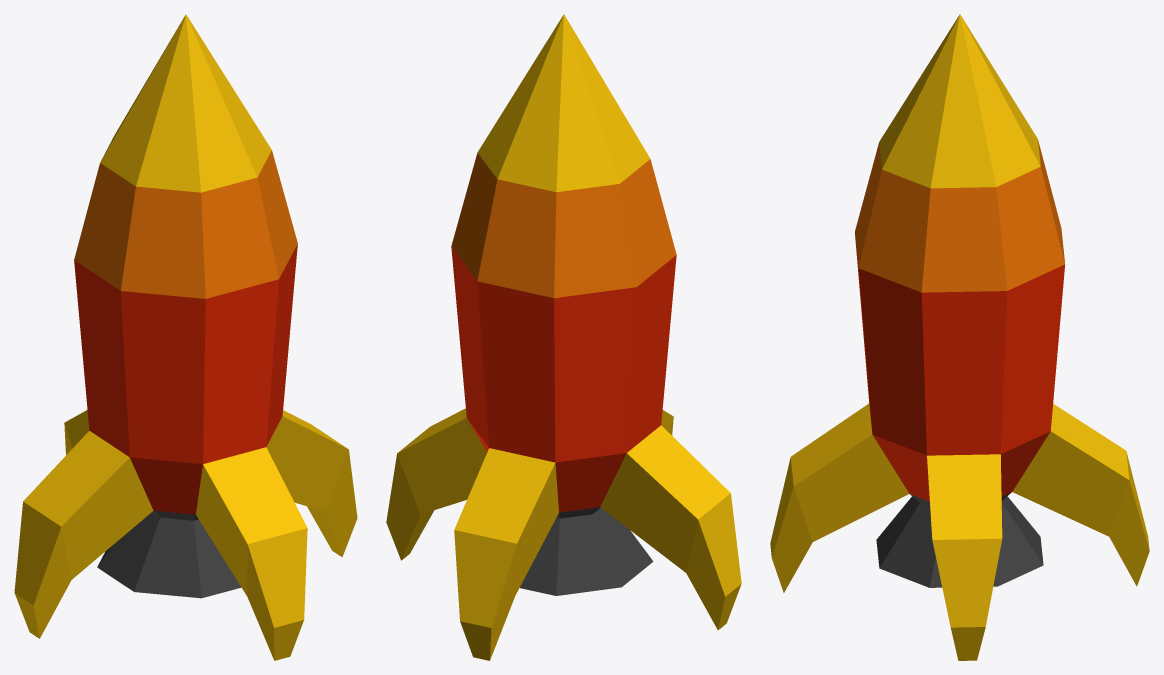
File: rocket.fbx
3 renders of one model, left to right at view 1: azimuth 30°, elevation 25°; view 2: azimuth 150°, elevation 25°; view 3: azimuth 270°, elevation 25°, orthographic.
Visible parts, largest first — view 1: Circle; view 2: Circle; view 3: Circle.
Part boxes in pixels (x1,y1,x2,y2): Circle: (14, 14, 357, 660); Circle: (386, 14, 741, 660); Circle: (770, 14, 1149, 660).
Bounding box in the file's own units: 319 × 530 × 319.
